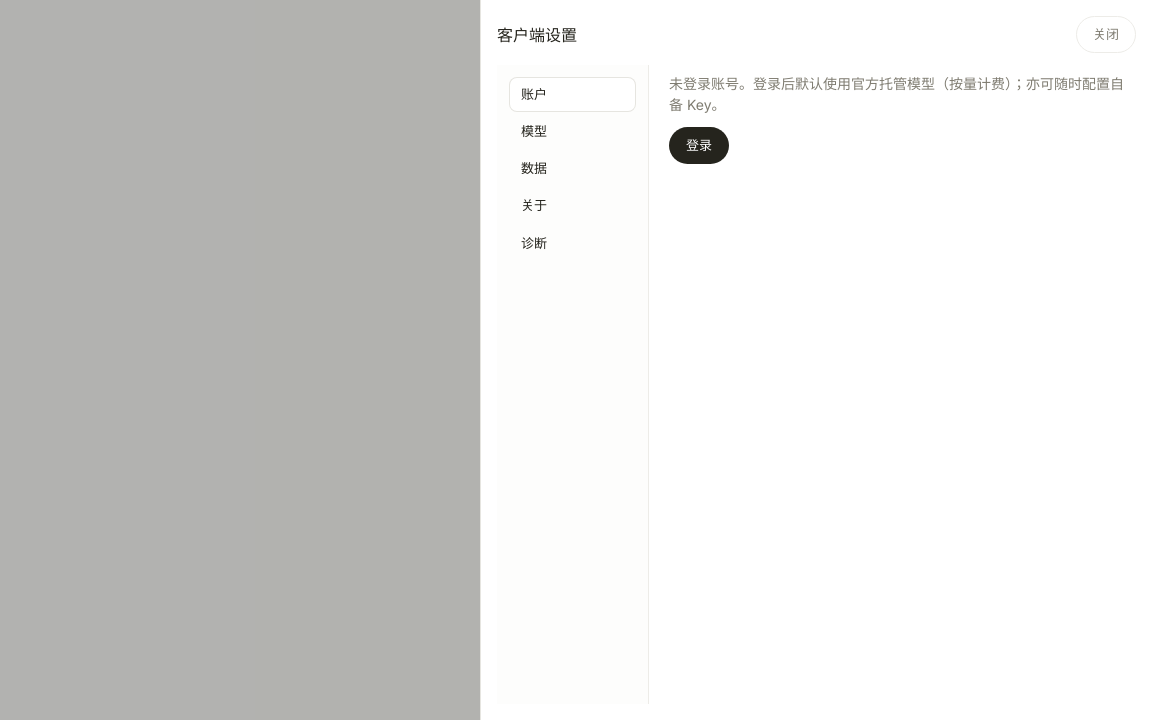
Scenario: DesktopSettingsDrawer › 模型 section shows 自备模型密钥 (BYOK) when signed out
Click the button "模型": coordinates (572, 132) [509, 114, 636, 150]
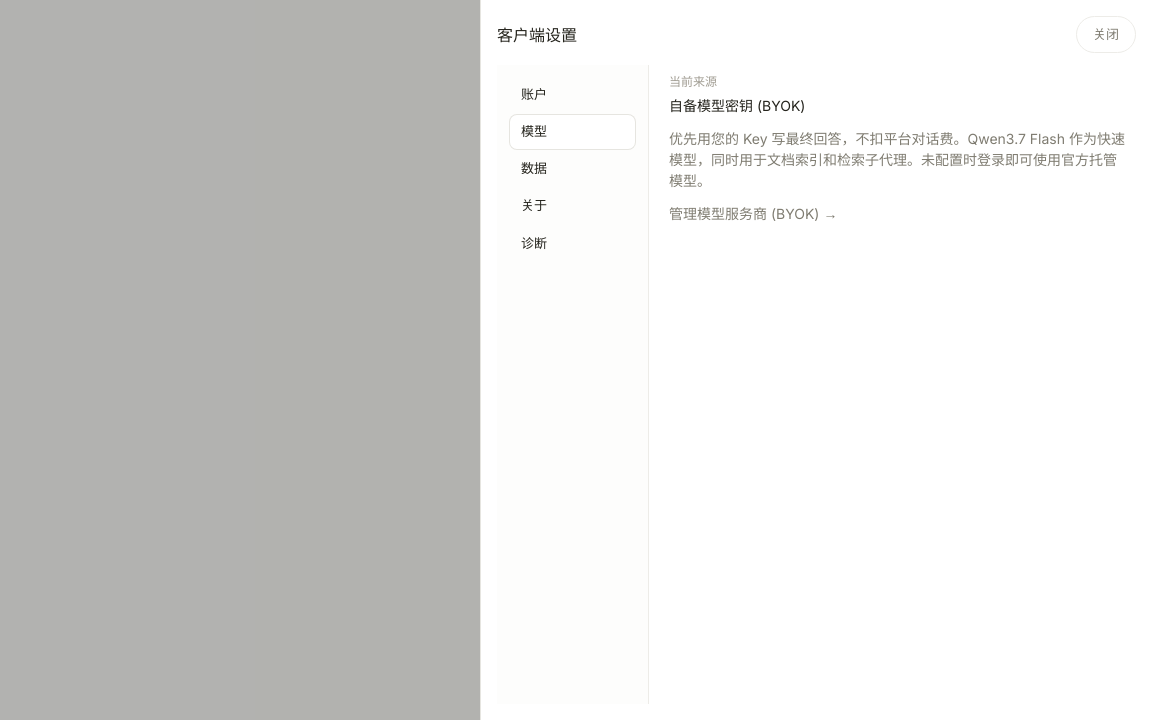
Expected: the text "自备模型密钥 (BYOK)" is shown, [669, 97, 806, 114]
